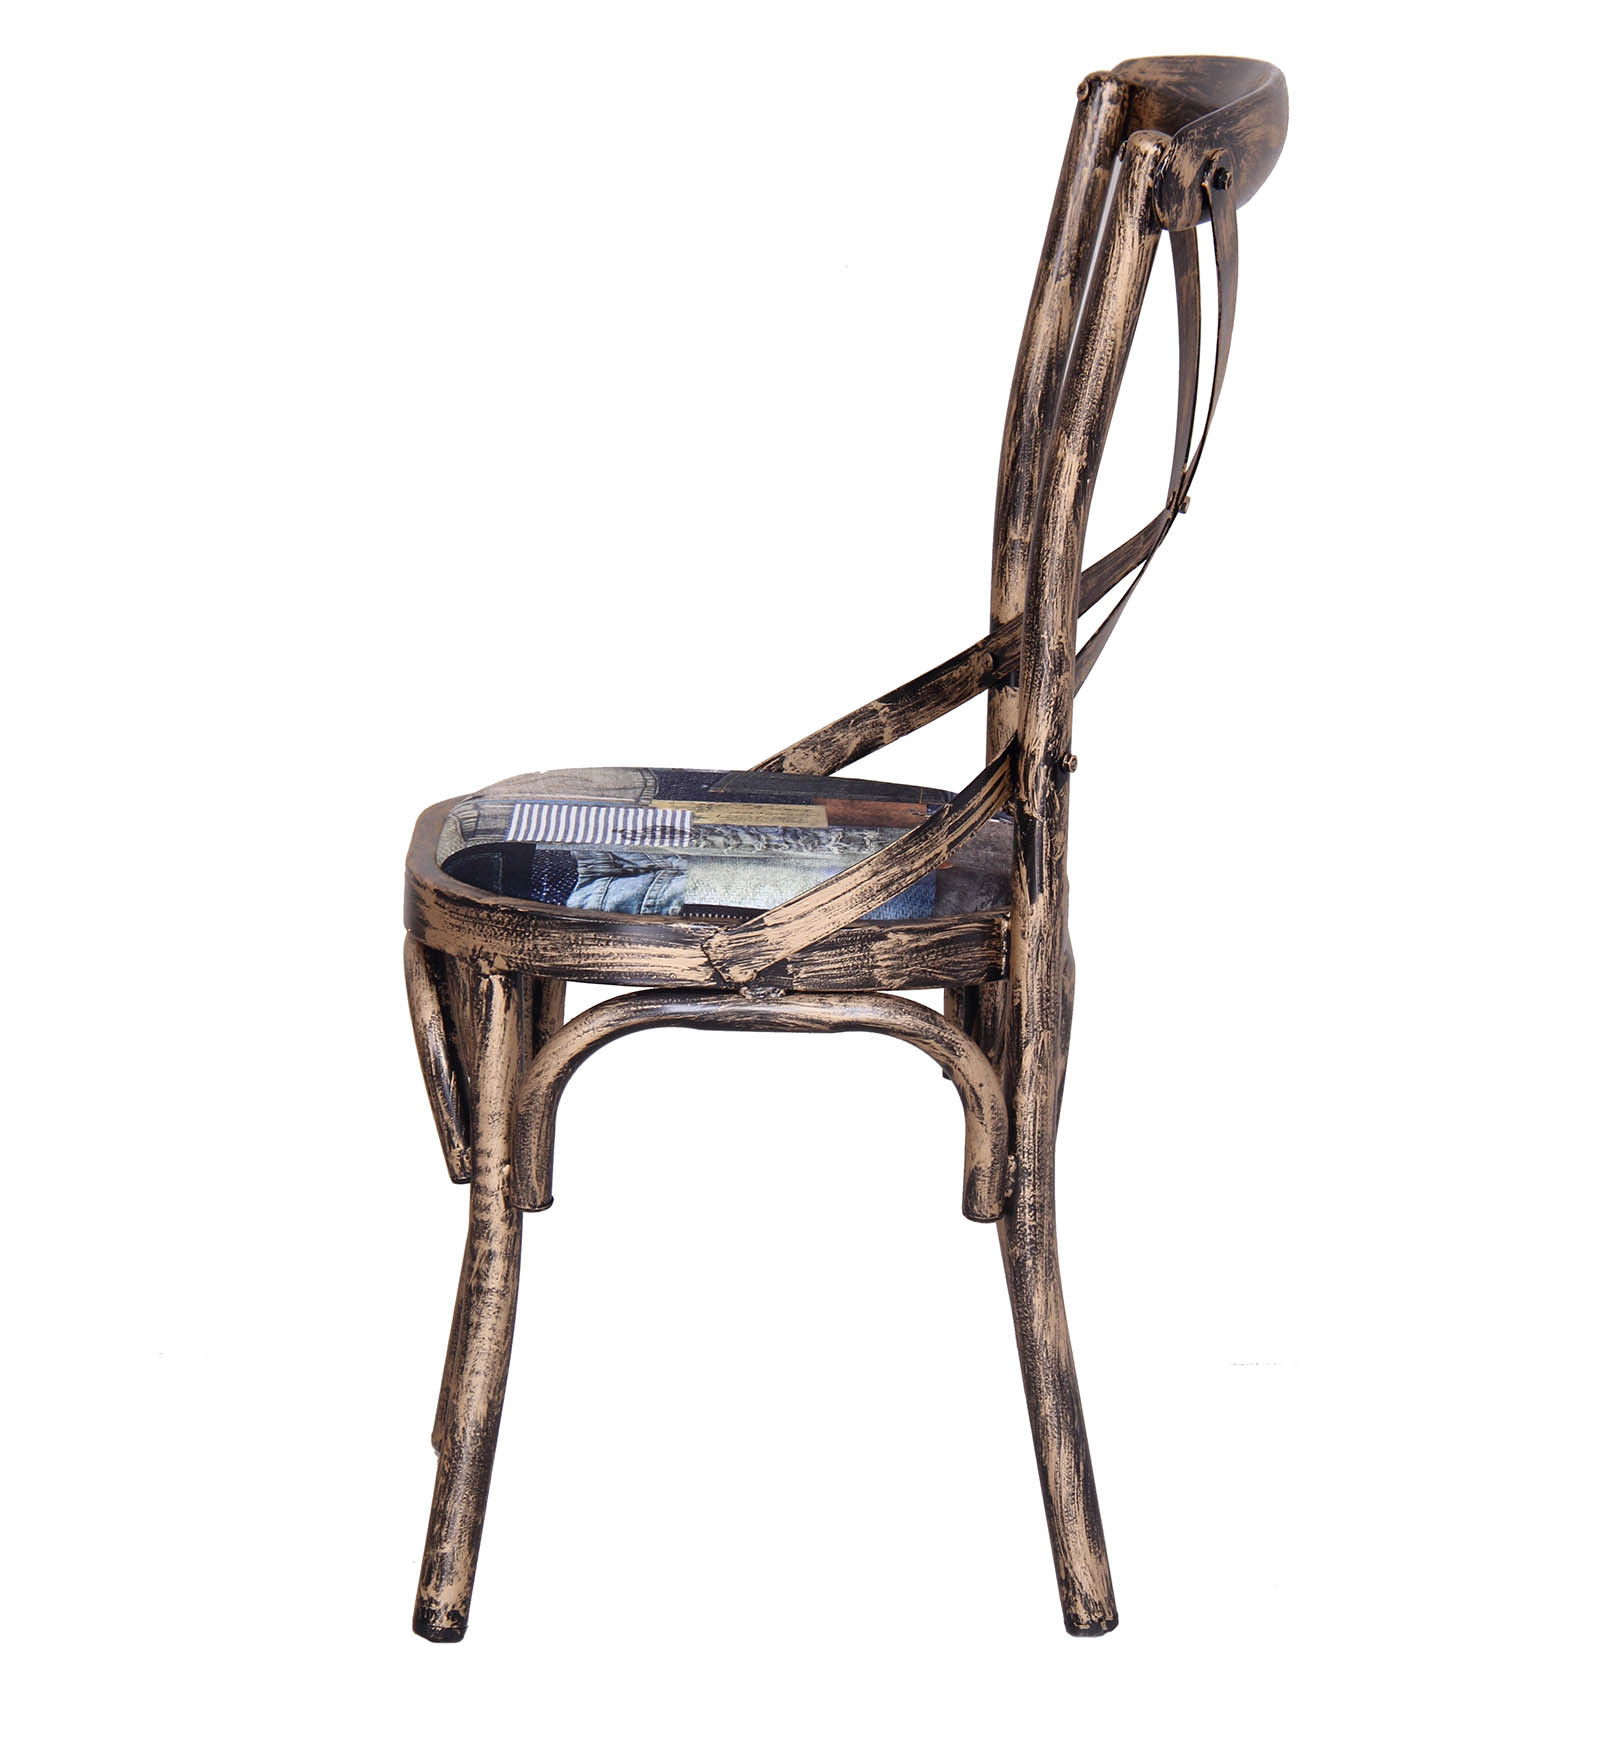Stanrock Metal Chair (Set of 2) in Antique Bronze by Bohemiana: (323, 26, 1310, 1660)
